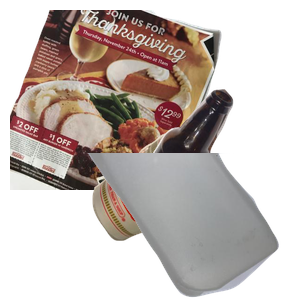glass: (130, 87, 300, 267)
paper: (10, 10, 224, 190)
plastic: (84, 153, 300, 300)
trash: (90, 129, 295, 300)
